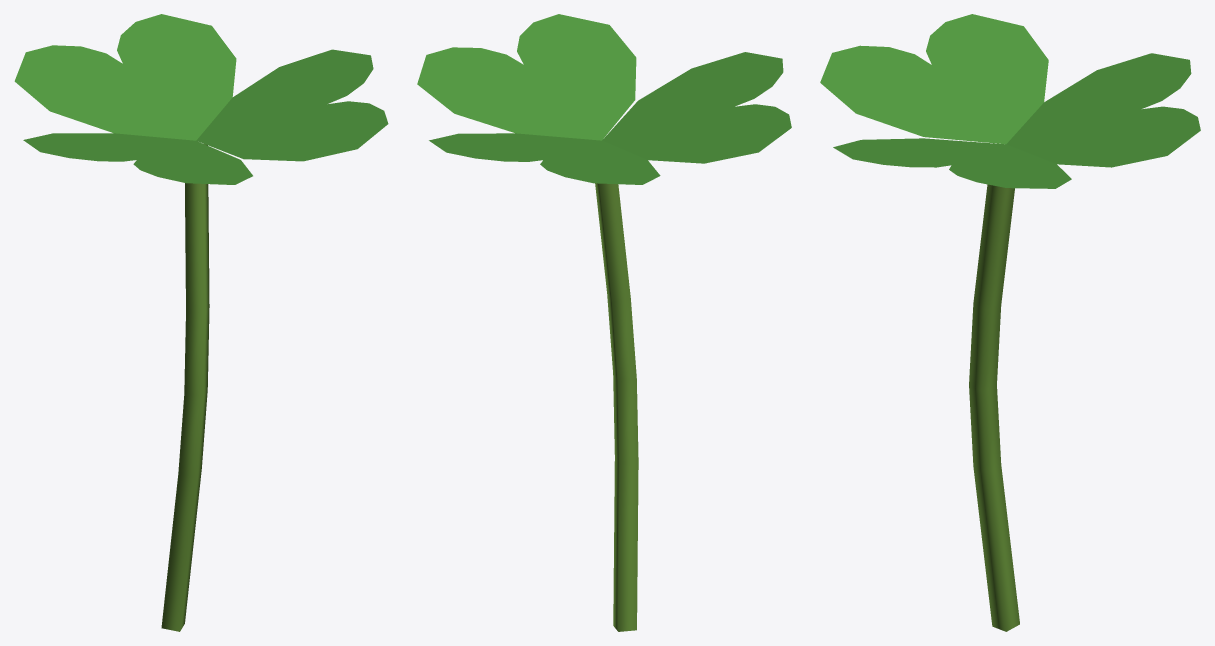
Rendered from clover.glb.
3 views of the same model, side by side, from view 1: azimuth 30°, elevation 25°; view 2: azimuth 150°, elevation 25°; view 3: azimuth 270°, elevation 25° (orthographic). The views are drawn at different scales.
Visible parts, largest first — view 1: clover; view 2: clover; view 3: clover.
Part boxes in pixels (x1,y1,x2,y2): clover: (14, 14, 388, 631); clover: (417, 14, 791, 631); clover: (820, 14, 1200, 631).
Bounding box in the file's own units: 5.3 × 7.64 × 4.9.
